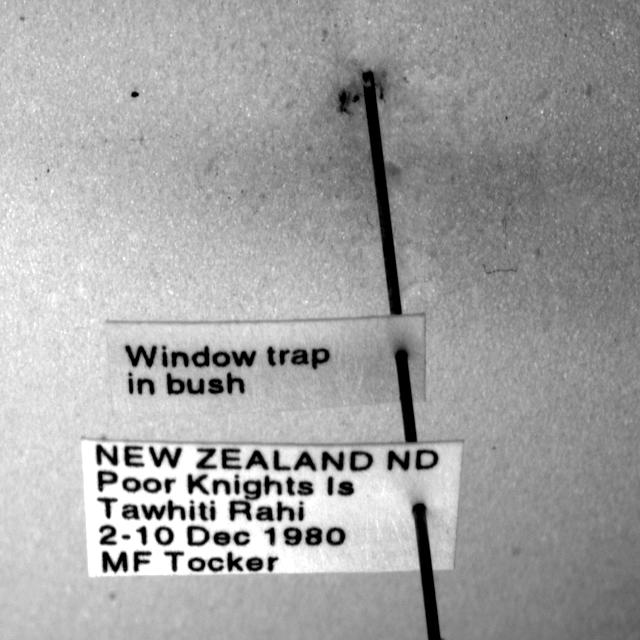typed_label: (81, 439, 462, 578), (106, 313, 425, 414)
